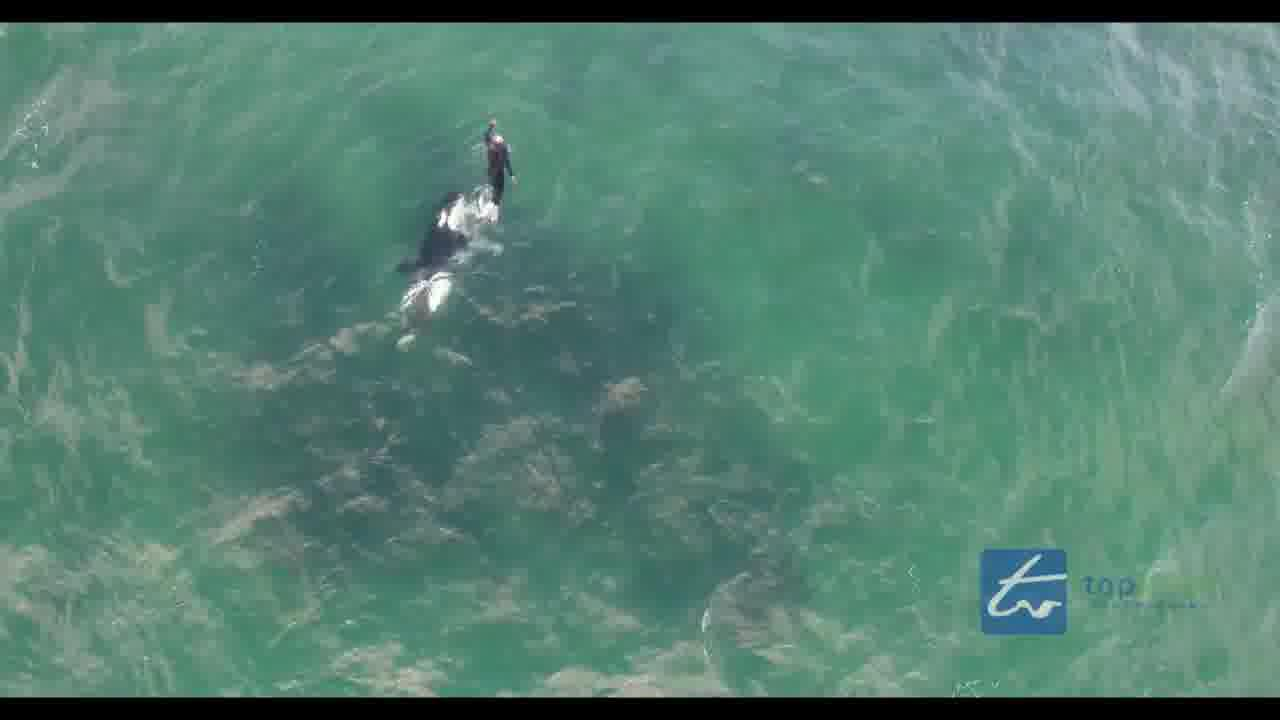human: (480, 121, 514, 205)
